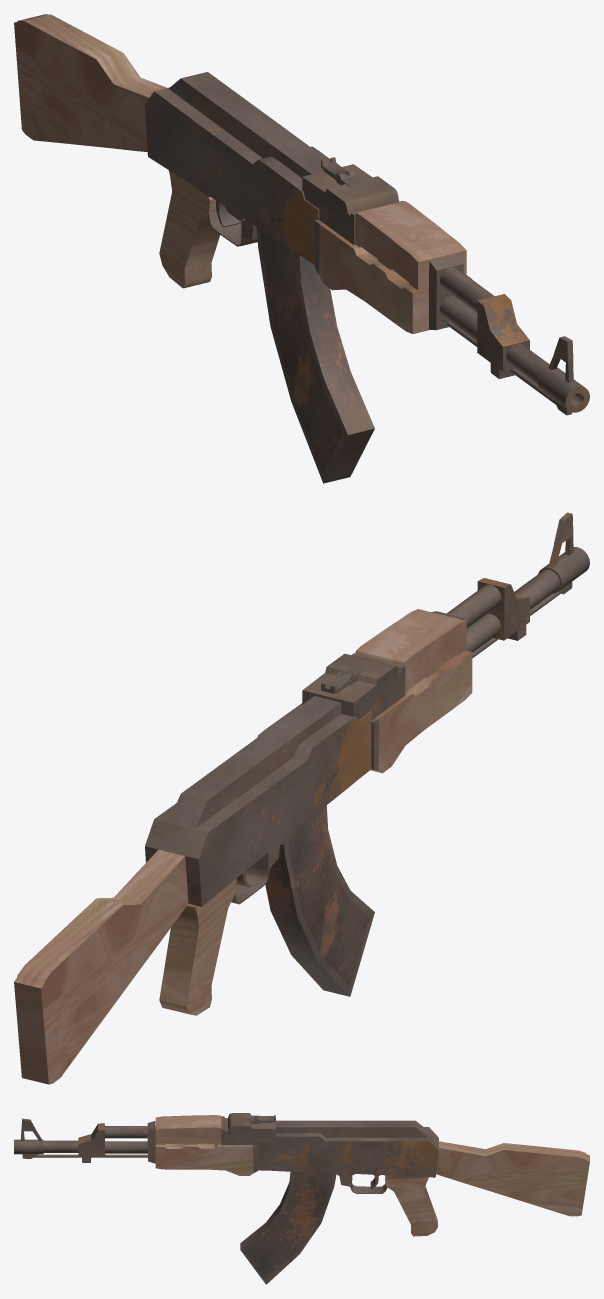
The picture shows the model from 3 angles, top to bottom: view 1: azimuth 30°, elevation 25°; view 2: azimuth 150°, elevation 25°; view 3: azimuth 270°, elevation 25°; orthographic projection. The views are drawn at different scales.
Parts seen in each view (by area): view 1: AK47_Untitled.003, Clip.001_Untitled.002; view 2: AK47_Untitled.003, Clip.001_Untitled.002; view 3: AK47_Untitled.003, Clip.001_Untitled.002.
Part boxes in pixels (box(x1,y1,x2,y2)): AK47_Untitled.003: box(14, 14, 589, 415); Clip.001_Untitled.002: box(256, 227, 374, 483); AK47_Untitled.003: box(14, 512, 589, 1084); Clip.001_Untitled.002: box(265, 805, 374, 996); AK47_Untitled.003: box(14, 1113, 589, 1236); Clip.001_Untitled.002: box(240, 1171, 336, 1284).
Size of the model in its own units: 0.33 by 1.67 by 5.29.
